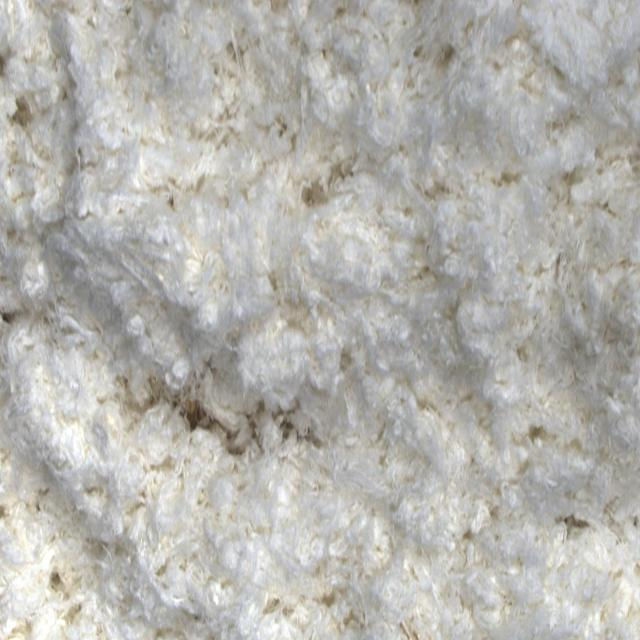dust: (126, 372, 249, 437)
